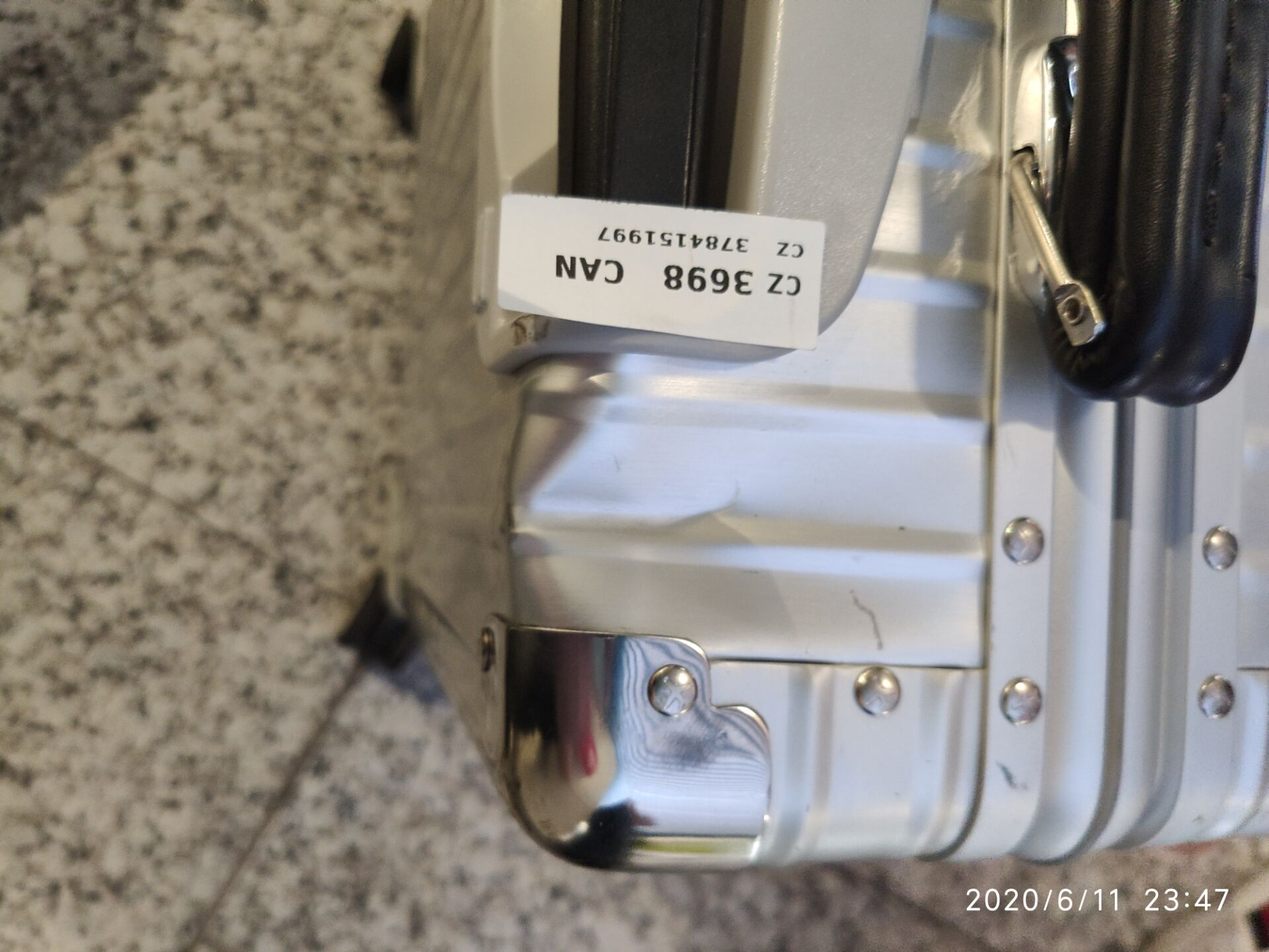rupture: (504, 350, 743, 635)
